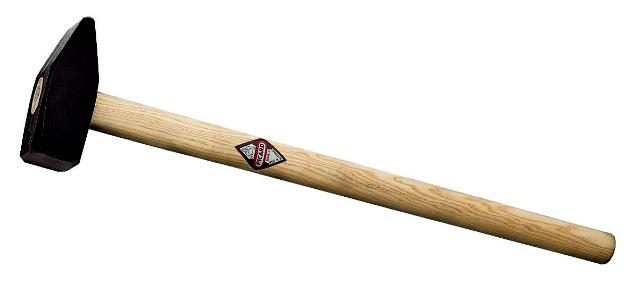hammer: (16, 13, 620, 267)
